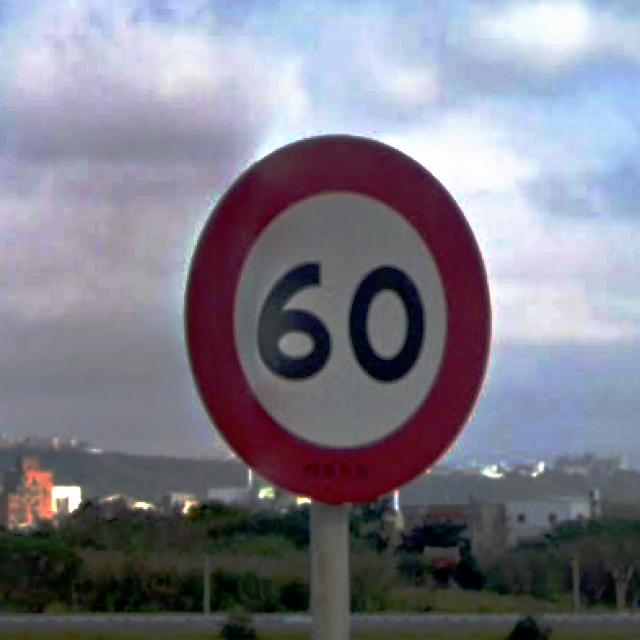max60: (181, 129, 492, 506)
